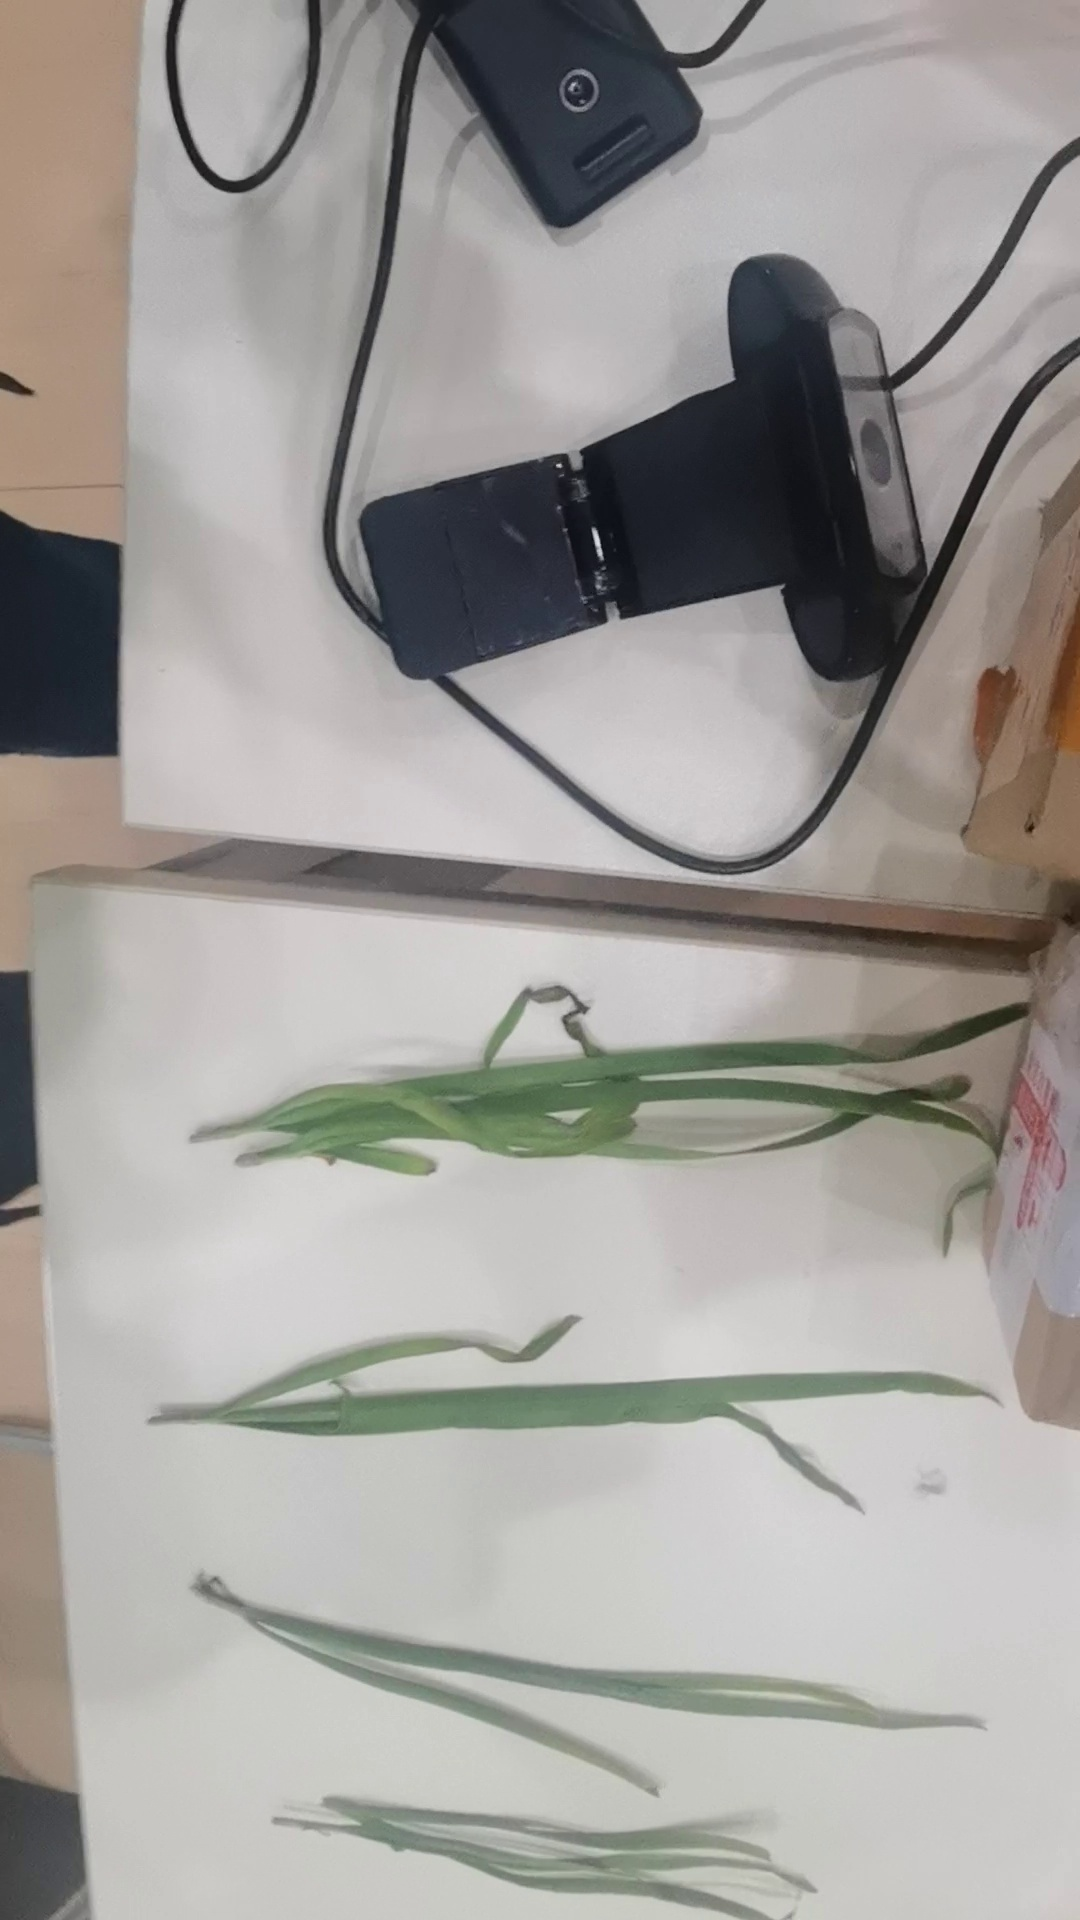chives: (177, 978, 1026, 1237), (149, 1307, 1006, 1531), (181, 1572, 955, 1788), (243, 1766, 873, 1911)
